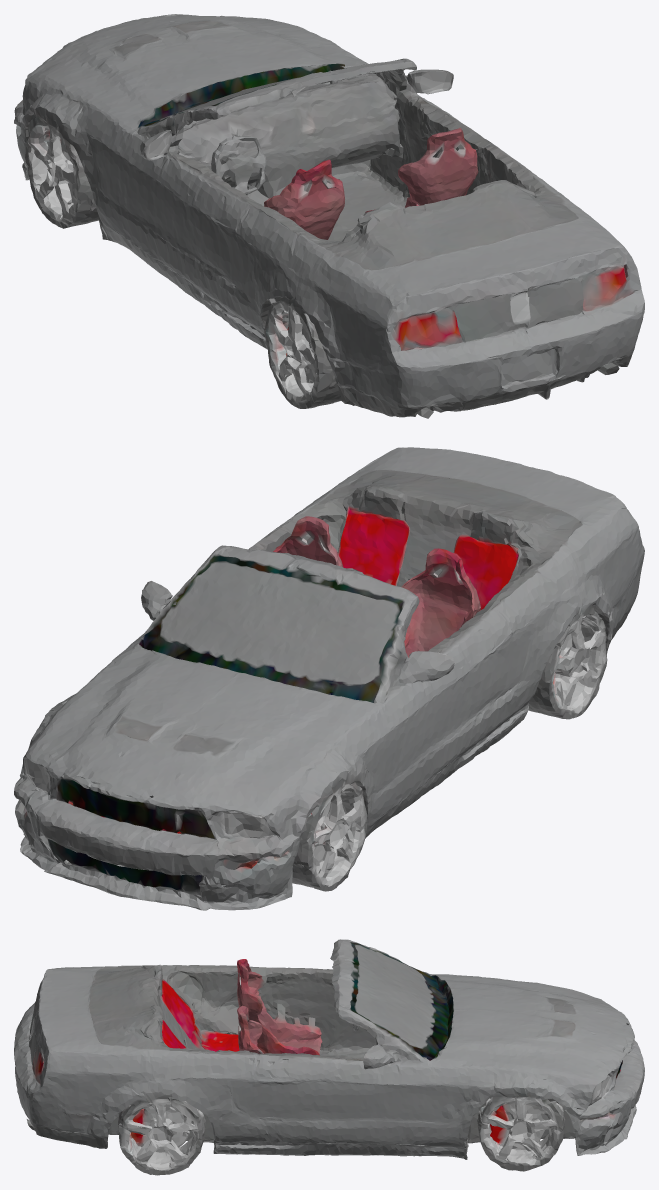
3 views of the same model, one above another, from view 1: azimuth 30°, elevation 25°; view 2: azimuth 150°, elevation 25°; view 3: azimuth 270°, elevation 25° (orthographic). The views are drawn at different scales.
Visible parts, largest first — view 1: defaultobject; view 2: defaultobject; view 3: defaultobject.
Boxes of the visible parts, x1,y1,x2,y2 form: defaultobject: (14, 14, 644, 418); defaultobject: (14, 447, 644, 910); defaultobject: (14, 939, 644, 1175).
Size of the model in its own units: 0.4012 by 0.2561 by 0.9481.
